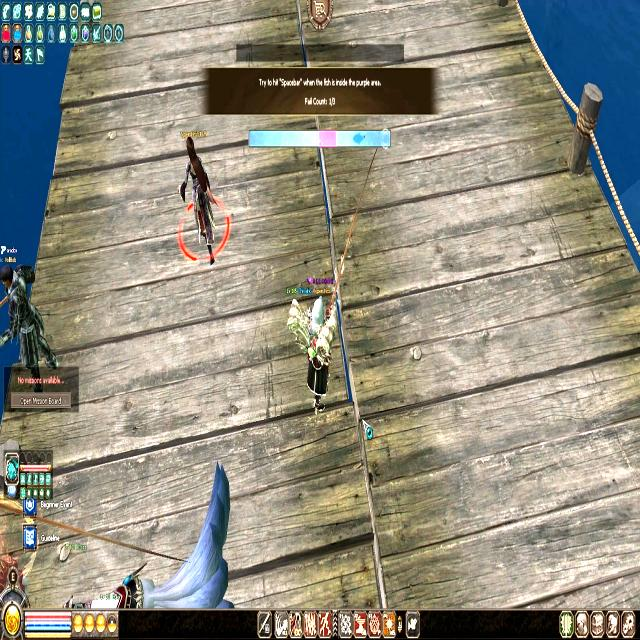fishes: (354, 132, 366, 144)
